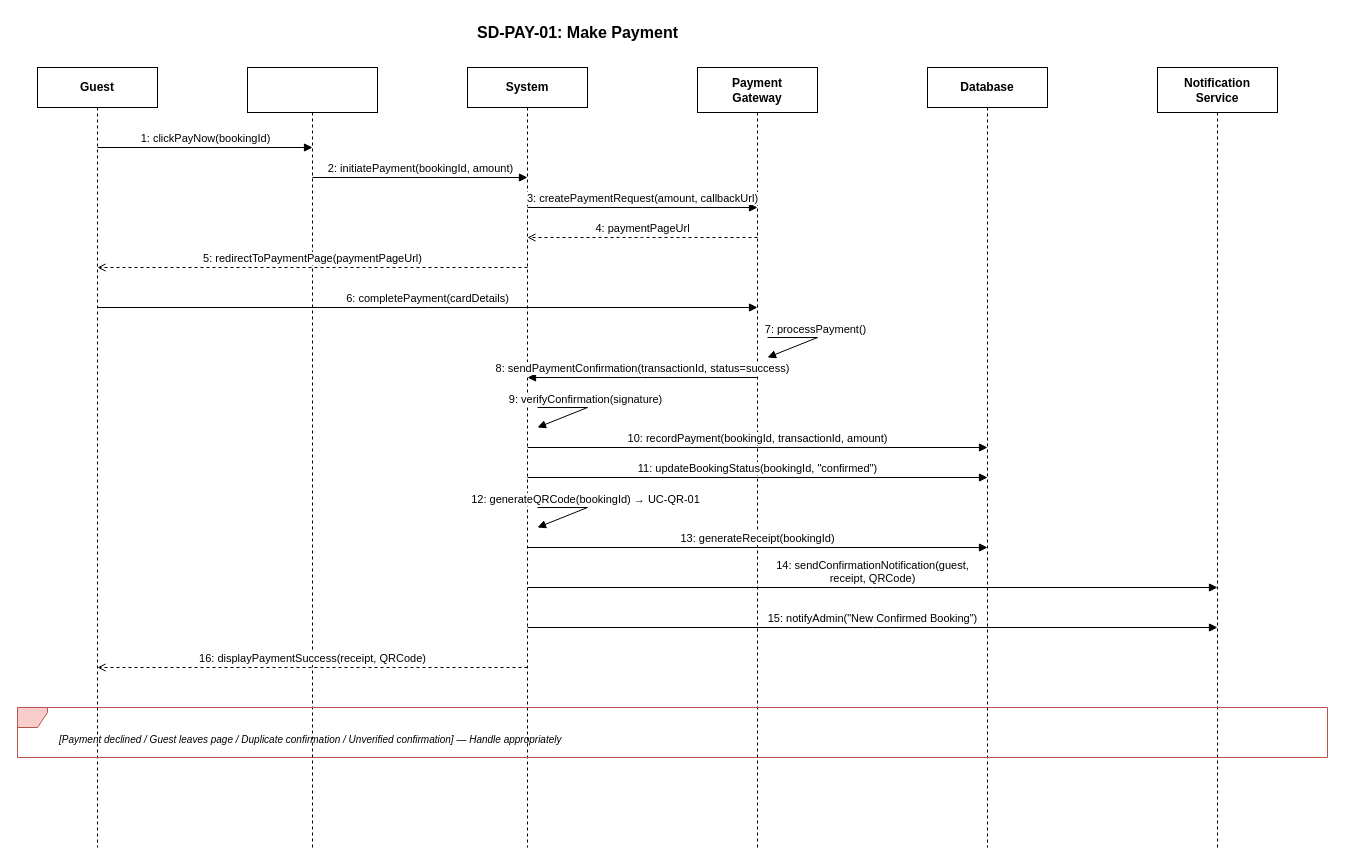
This 1345x865 diagram has some shape labels left out. Here are the shapes that lost their labels. From the top down, the box of each, then its label:
(246, 66, 378, 848): Booking Detail Page
(16, 706, 1328, 758): alt
